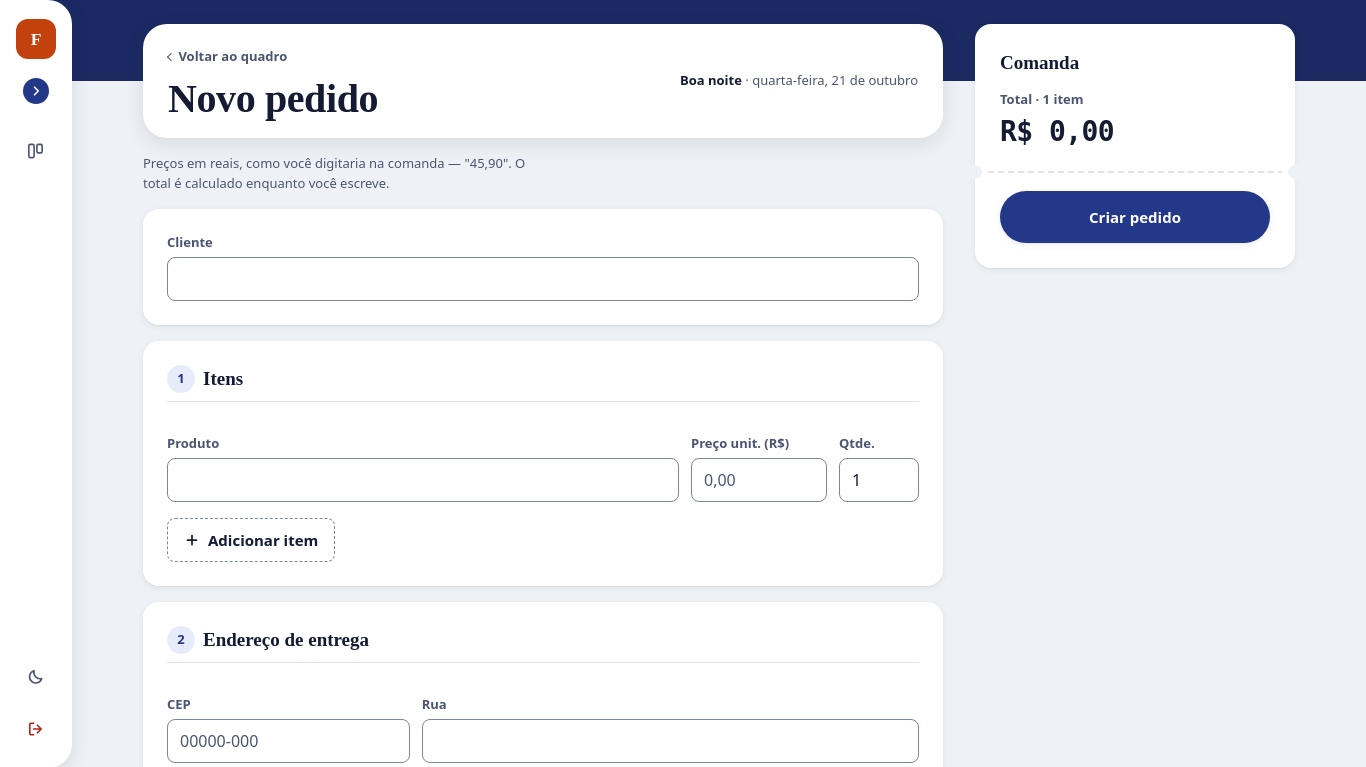
Test case: criação de pedido › não envia pedido inválido e aponta os campos com erro
Expected: the heading "Novo pedido" is shown, [168, 77, 378, 121]
Type "abc" into the field labelled "Preço unit. (R$)".
click(759, 480); type("abc")  # box [691, 458, 827, 502]
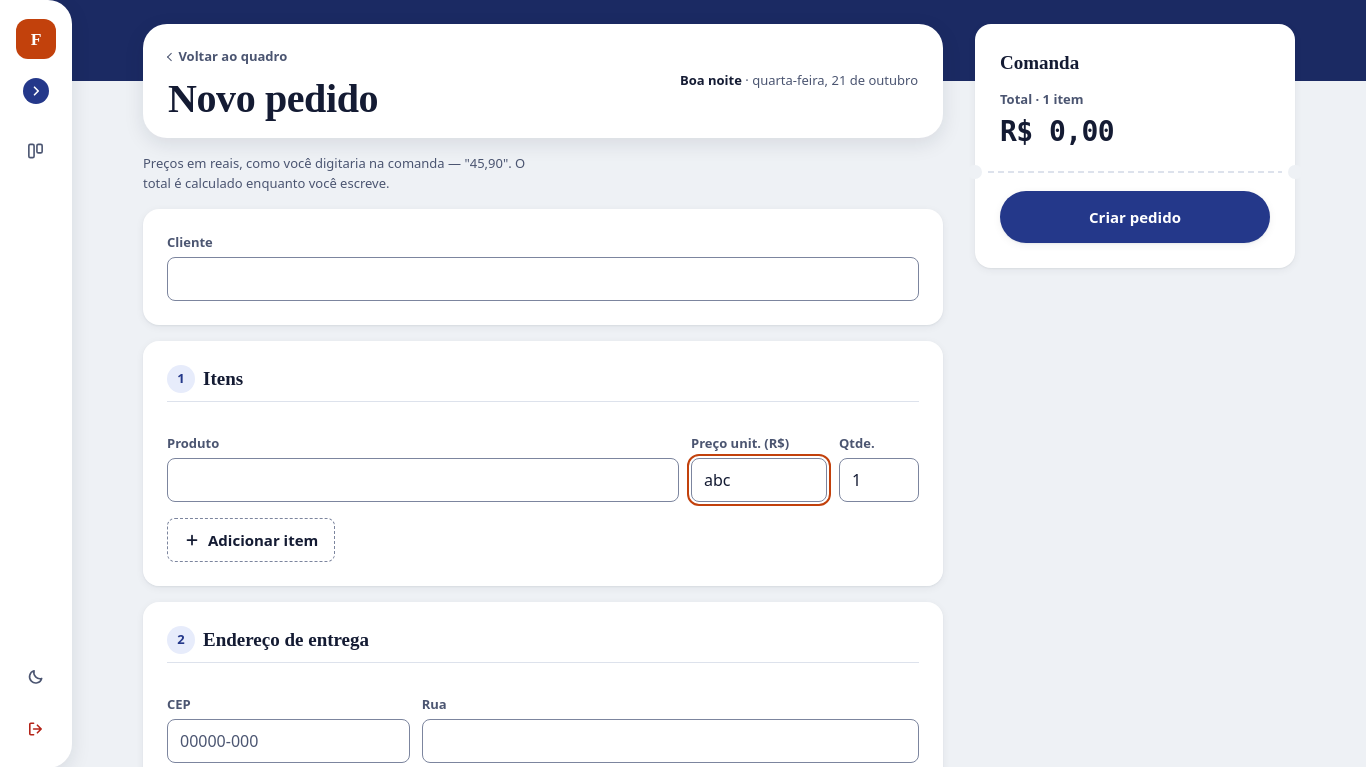
Replace the text in the field labelled "Qtde." with "1.5" at (879, 480), box [839, 458, 919, 502]
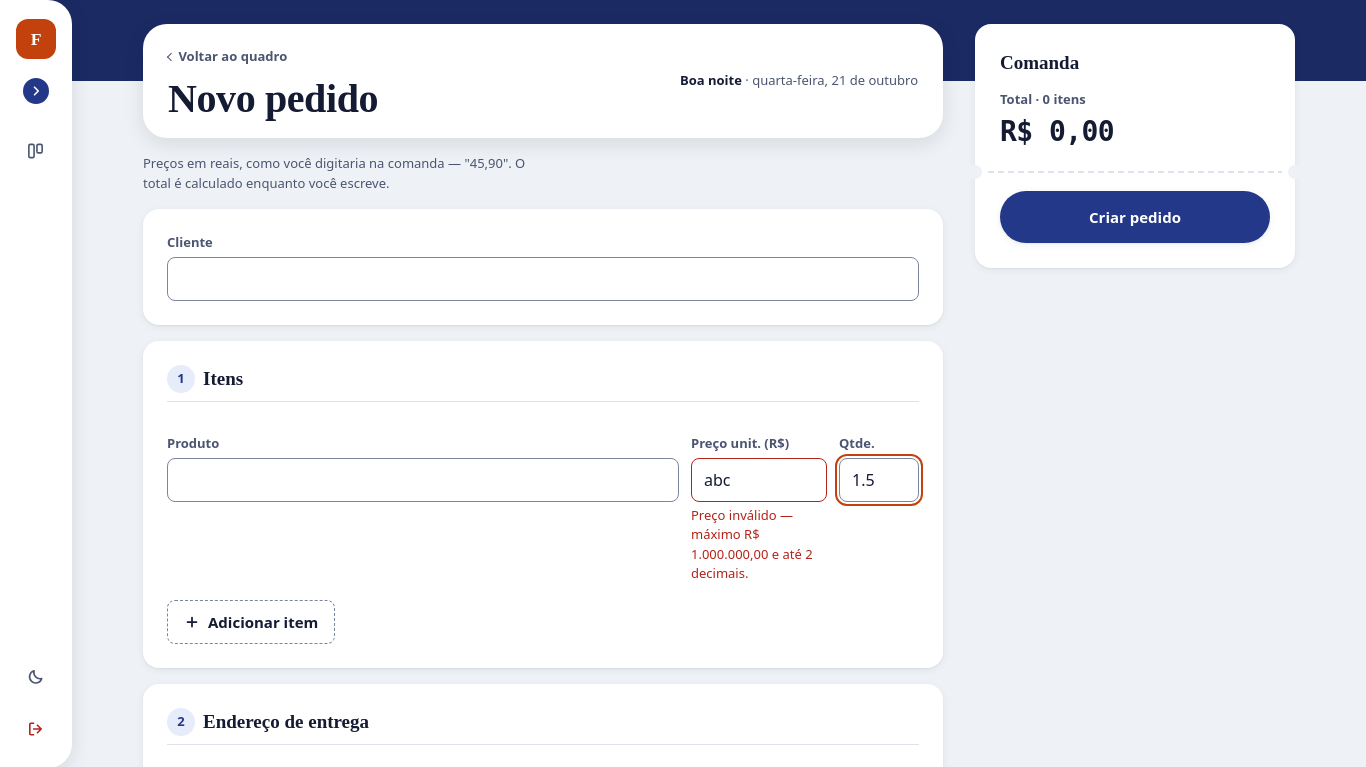
Click the button "Criar pedido".
click(1135, 217)  # box [1000, 191, 1270, 243]
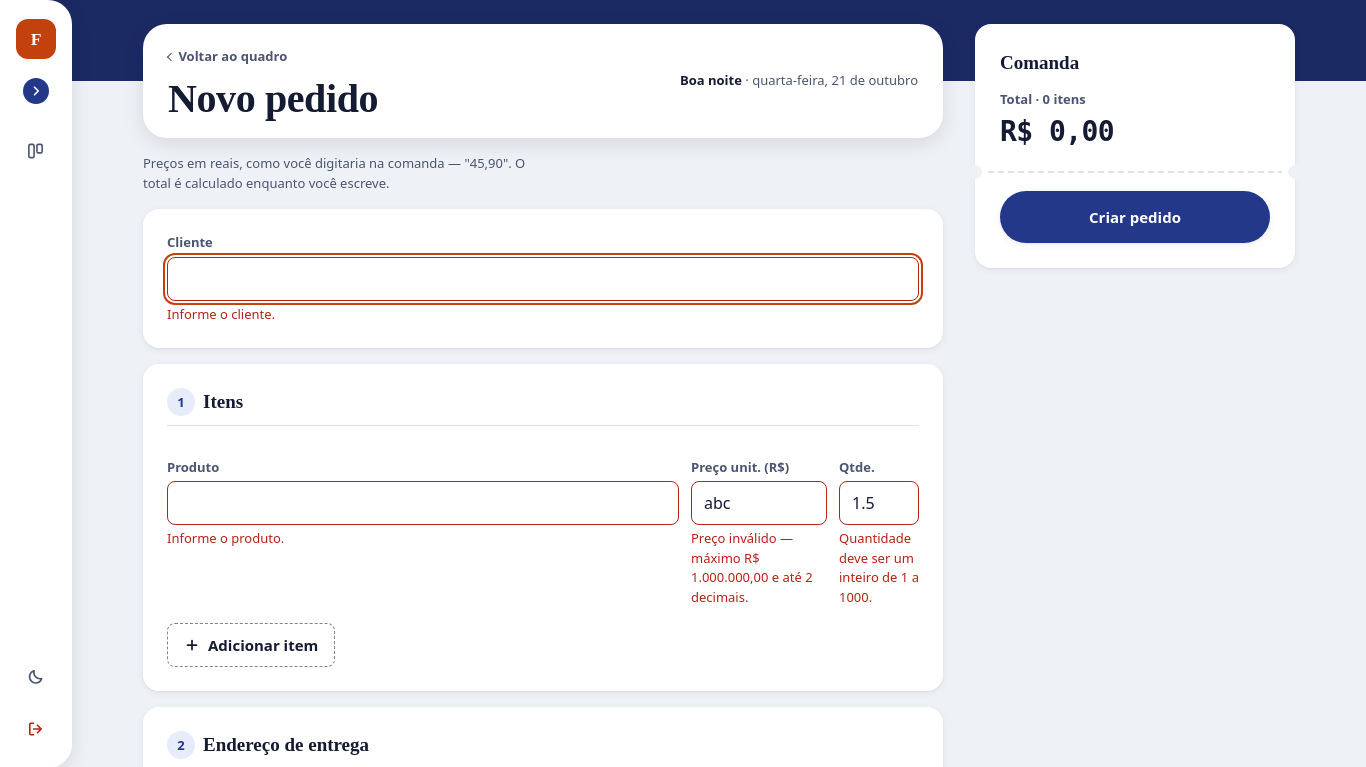
Expected: the text "Preço inválido — máximo R$ 1.000.000,00 e até 2 decimais." is shown, [691, 529, 827, 607]
Expected: the text "Quantidade deve ser um inteiro de 1 a 1000." is shown, [839, 529, 919, 607]
